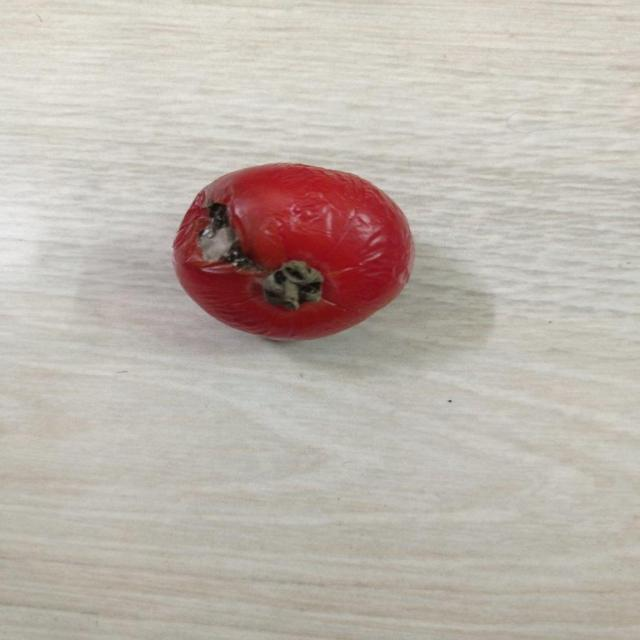Rotten: (175, 160, 412, 342)
